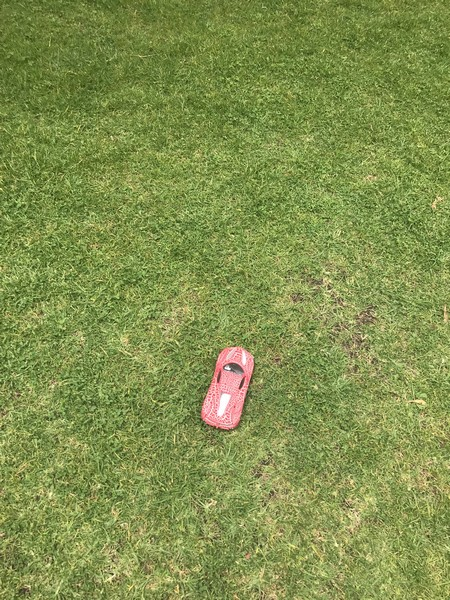RC: (199, 345, 257, 429)
